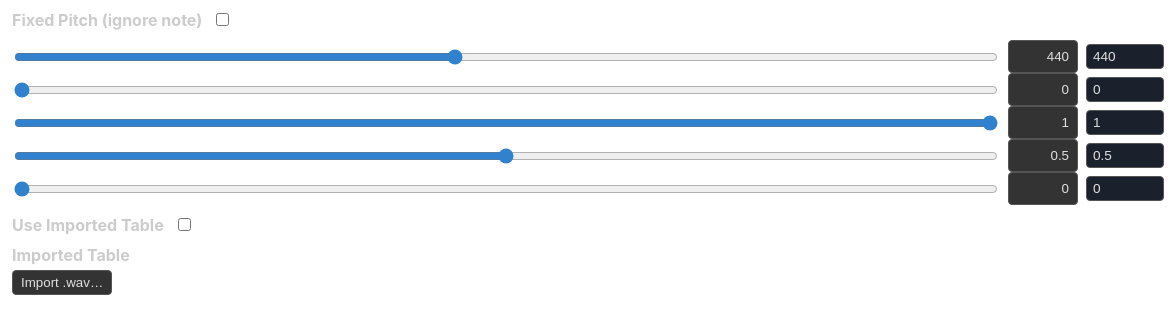
Test: Wavetable Import — failure paths › without window.electron.importWav at all (a build that omitted it), shows a message instead of throwing
Click the button with test id "wavetable-import" at (62, 282), box [12,270,112,295]
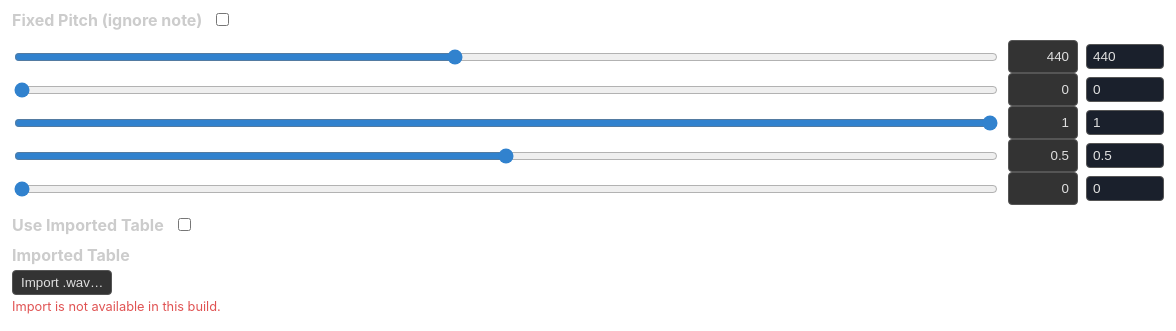
Expected: the text "Import is not available in this build." is shown, [12,299,221,314]
